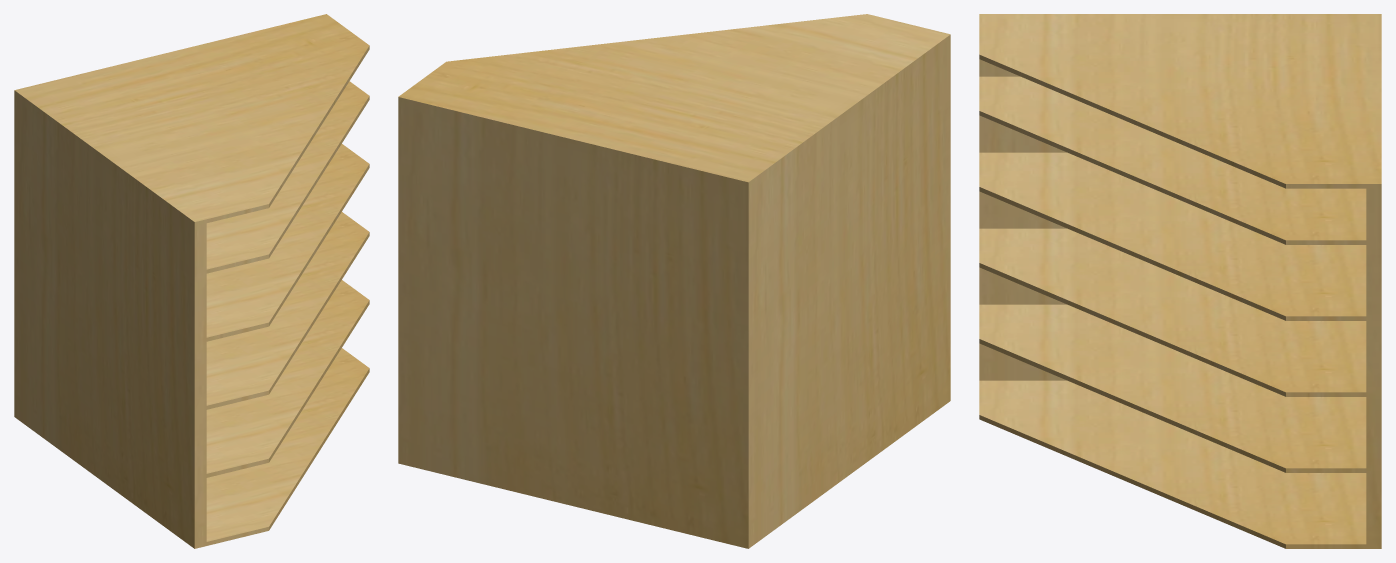
File: sh-lp-corner.glb
3 views of the same model, side by side, from view 1: azimuth 30°, elevation 25°; view 2: azimuth 150°, elevation 25°; view 3: azimuth 270°, elevation 25° (orthographic). The views are drawn at different scales.
Visible parts, largest first — view 1: Line26_1; view 2: Line26_1; view 3: Line26_1.
Part boxes in pixels (x1,y1,x2,y2): Line26_1: [14, 14, 369, 548]; Line26_1: [398, 14, 950, 548]; Line26_1: [979, 14, 1381, 548].
Bounding box in the file's own units: 1 × 1 × 1.
Materials: 1 (1 with a texture image).
